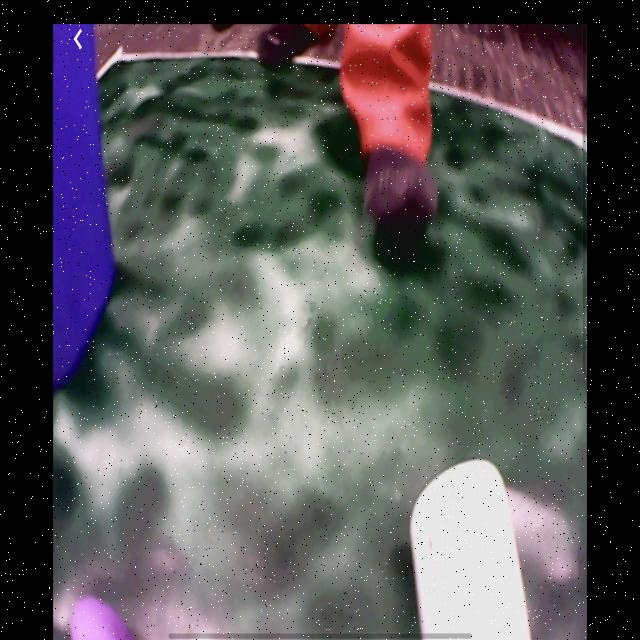ball: (69, 596, 131, 640)
